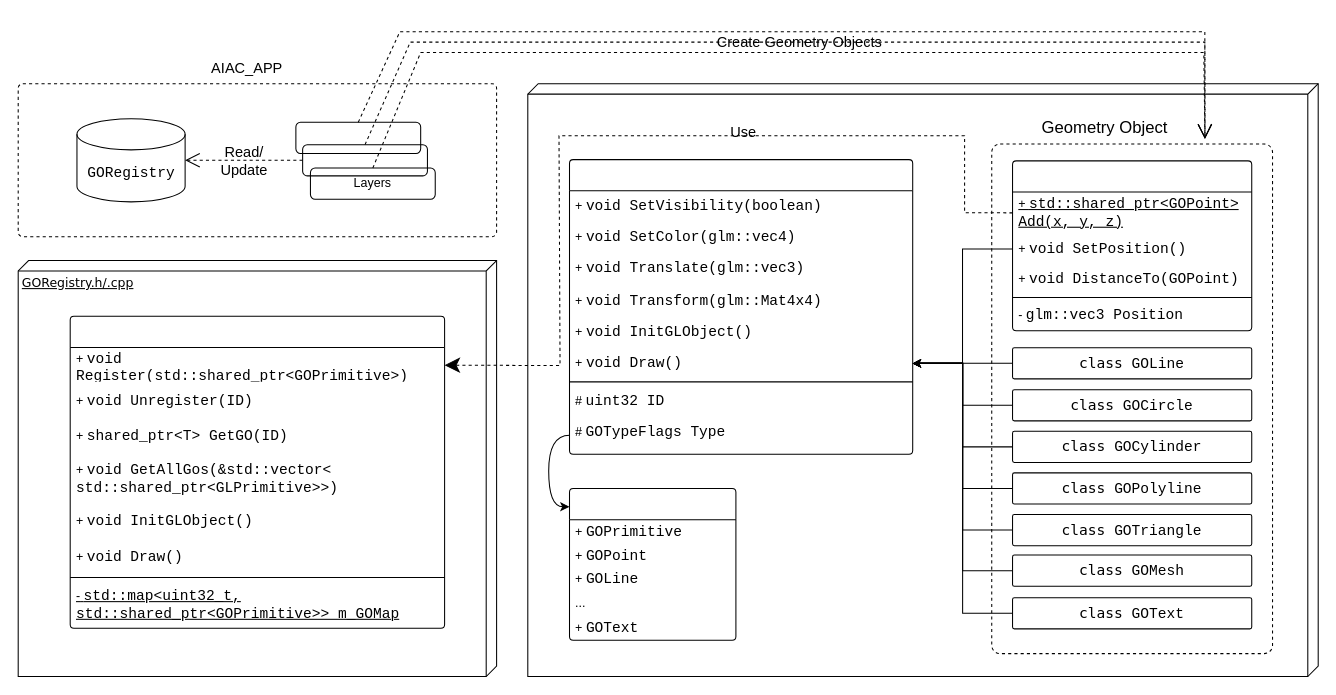
Some shapes in this 1336 by 695 pixel diagram are drawn without their labels. Here are the shapes that lost their labels. From the top down, the box of each, then its label:
(1012, 160, 1252, 331): class GOPoint
(568, 159, 913, 454): class GOPrimitive
(527, 83, 1318, 677): GOPrimitive.h/.cpp
(69, 315, 445, 628): class GORegistry
(568, 487, 736, 640): enum GOTypeFlags
